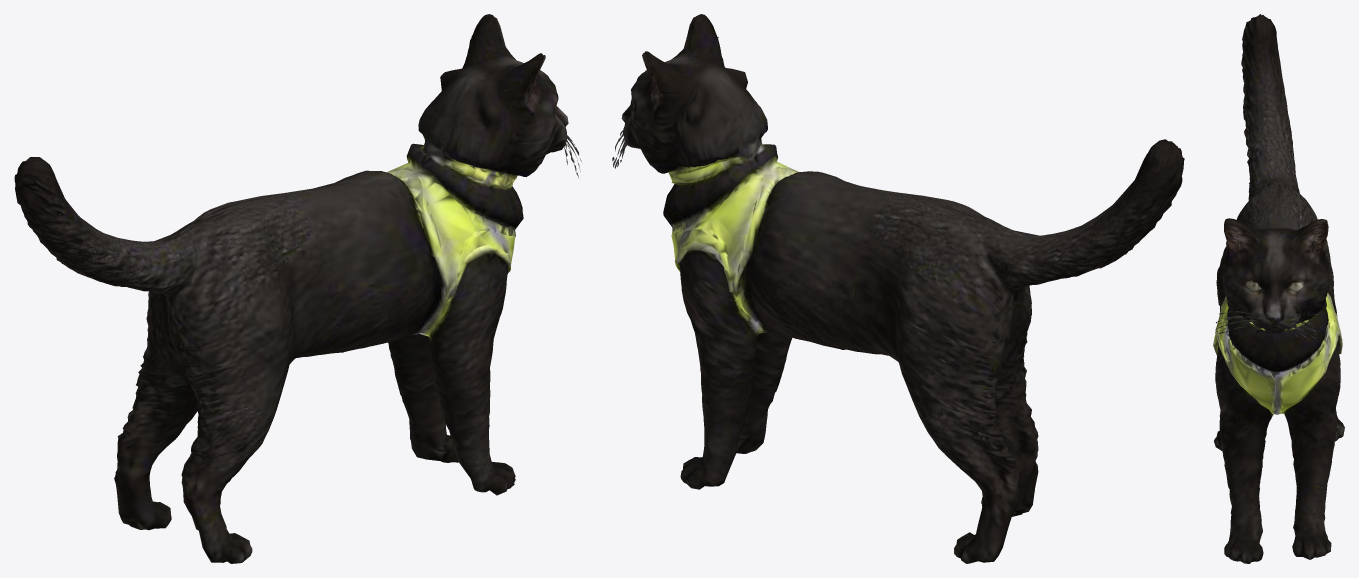
File: ROLFCAT-lo.glb
The picture shows the model from 3 angles, left to right: view 1: azimuth 30°, elevation 25°; view 2: azimuth 150°, elevation 25°; view 3: azimuth 270°, elevation 25°; orthographic projection. The views are drawn at different scales.
Parts seen in each view (by area): view 1: tripo_node_789398a9-4865-499c-8535-67dd225d78c3; view 2: tripo_node_789398a9-4865-499c-8535-67dd225d78c3; view 3: tripo_node_789398a9-4865-499c-8535-67dd225d78c3.
Boxes of the visible parts, x1,y1,x2,y2 form: tripo_node_789398a9-4865-499c-8535-67dd225d78c3: (14,14,581,563); tripo_node_789398a9-4865-499c-8535-67dd225d78c3: (612,14,1184,563); tripo_node_789398a9-4865-499c-8535-67dd225d78c3: (1213,14,1344,563).
Bounding box in the file's own units: 1.35 × 0.9978 × 0.3305.
1 material, 1 textured.
